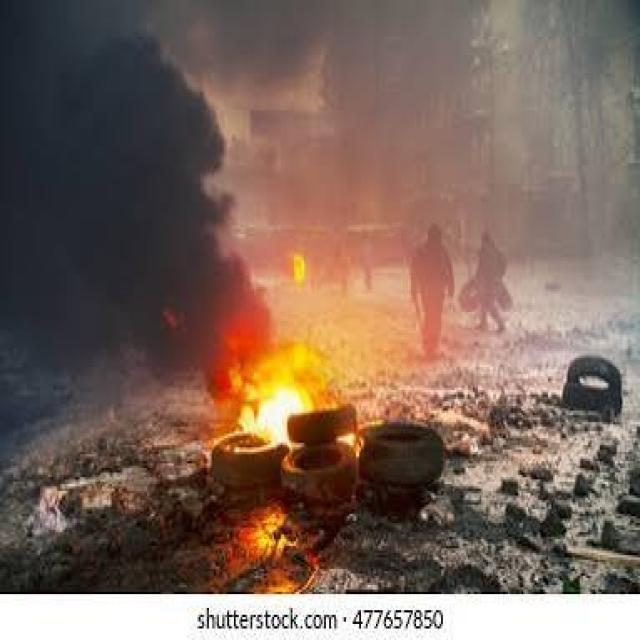fire: (229, 343, 314, 448)
